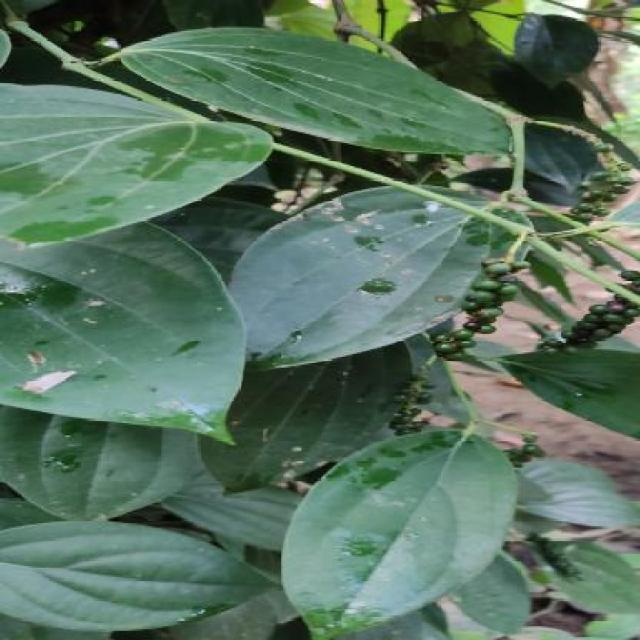UNRIPE: (431, 258, 523, 360), (543, 271, 637, 355), (571, 143, 631, 223), (388, 374, 432, 434), (506, 434, 539, 468)
